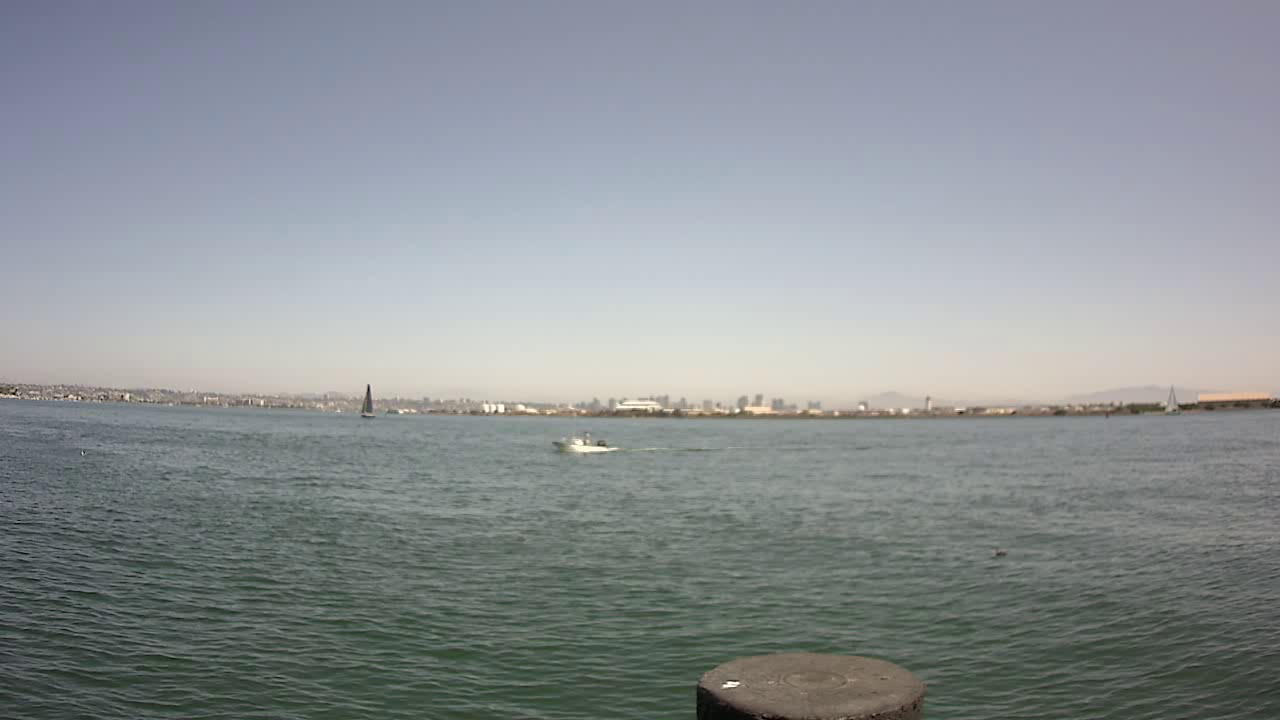target: (547, 416, 625, 461)
